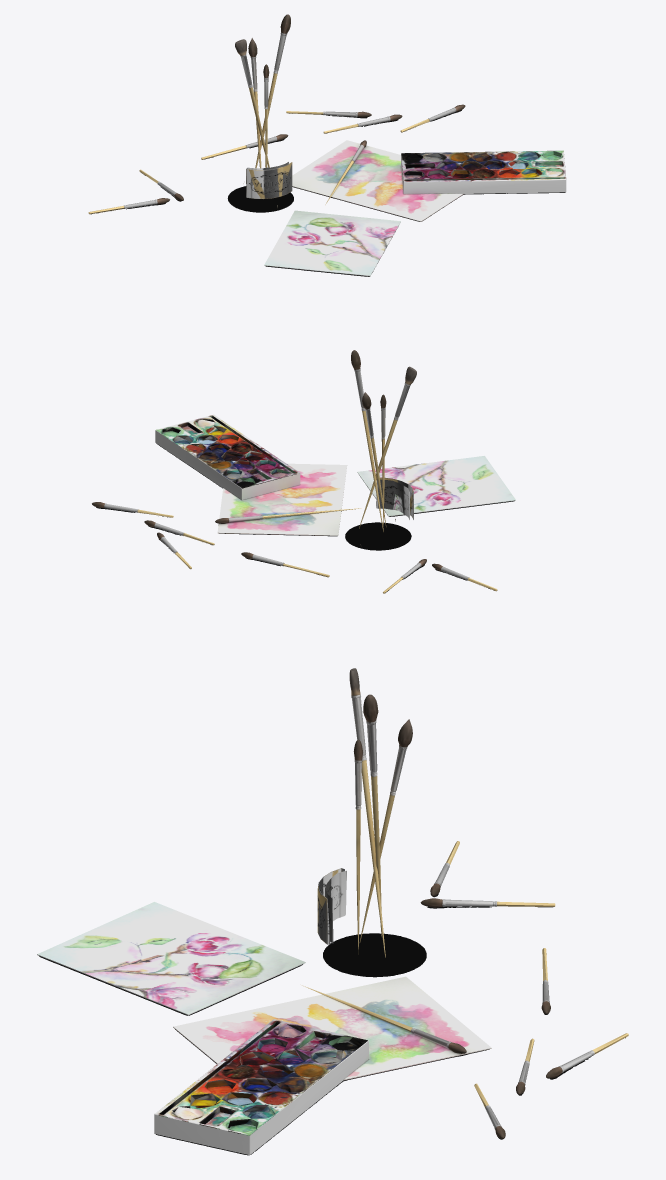
The model's file is raw_model.obj.
3 renders of one model, top to bottom at view 1: azimuth 30°, elevation 25°; view 2: azimuth 150°, elevation 25°; view 3: azimuth 270°, elevation 25°, orthographic. The views are drawn at different scales.
Parts seen in each view (by area): view 1: solid_001, solid_002, solid_013, solid_012, shadow, solid_007, solid_004, solid_008, solid_005; view 2: solid_001, solid_002, solid_013, shadow, solid_012, solid_007, solid_008, glass_001, solid_005; view 3: solid_002, solid_001, solid_013, shadow, solid_012, solid_007, solid_008, solid_005, glass_001, solid_011, solid_004.
Part boxes in pixels (x1,y1,x2,y2): solid_001: [292, 140, 463, 221]; solid_002: [264, 210, 400, 276]; solid_013: [401, 150, 565, 182]; solid_012: [401, 150, 566, 194]; shadow: [91, 110, 565, 276]; solid_007: [124, 32, 456, 208]; solid_004: [246, 162, 292, 199]; solid_008: [88, 109, 429, 214]; solid_005: [157, 14, 465, 204]; solid_001: [217, 463, 347, 535]; solid_002: [357, 456, 515, 516]; solid_013: [156, 414, 299, 488]; shadow: [96, 443, 514, 591]; solid_012: [155, 430, 300, 500]; solid_007: [104, 368, 469, 580]; solid_008: [137, 439, 497, 593]; glass_001: [360, 479, 413, 546]; solid_005: [92, 350, 442, 570]; solid_002: [37, 902, 305, 1015]; solid_001: [173, 976, 491, 1084]; solid_013: [155, 1019, 367, 1135]; shadow: [39, 894, 625, 1155]; solid_012: [154, 1040, 368, 1154]; solid_007: [351, 694, 594, 1129]; solid_008: [302, 809, 628, 1107]; solid_005: [353, 694, 562, 1139]; glass_001: [320, 868, 346, 944]; solid_011: [361, 760, 385, 957]; solid_004: [317, 868, 342, 944].
Bounding box in the file's own units: 0.8701 × 0.343 × 0.7079.
Materials: 1 (1 with a texture image).
